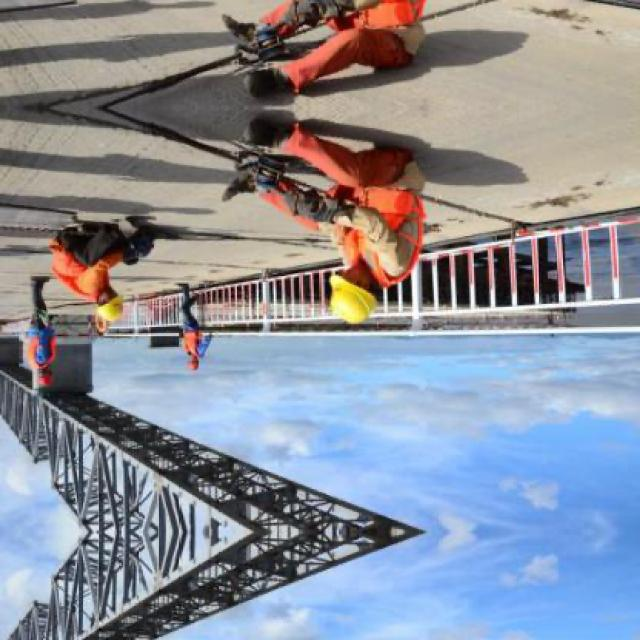con casco: (310, 248, 412, 334), (60, 272, 155, 325), (21, 349, 99, 395), (188, 339, 255, 383)
